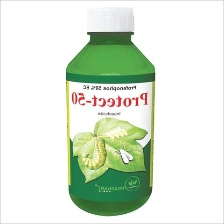insecticide: (62, 4, 160, 219)
